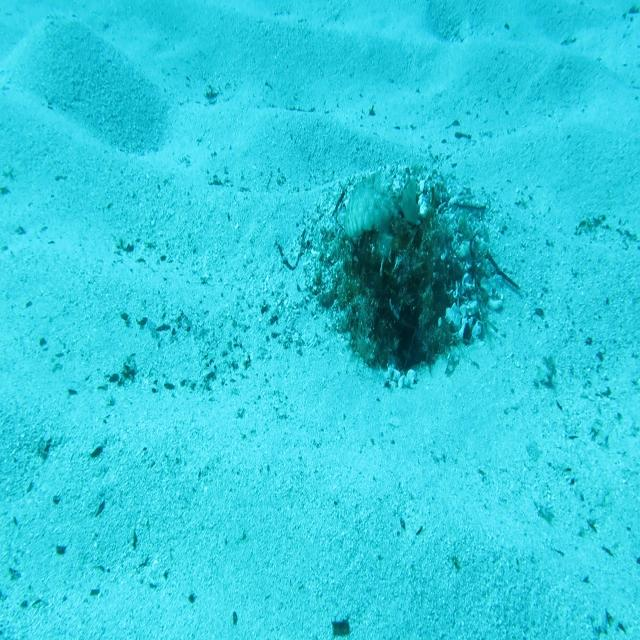NIP_IN: (341, 167, 422, 241)
core_nest: (365, 224, 421, 252)
nest: (300, 147, 509, 398)
